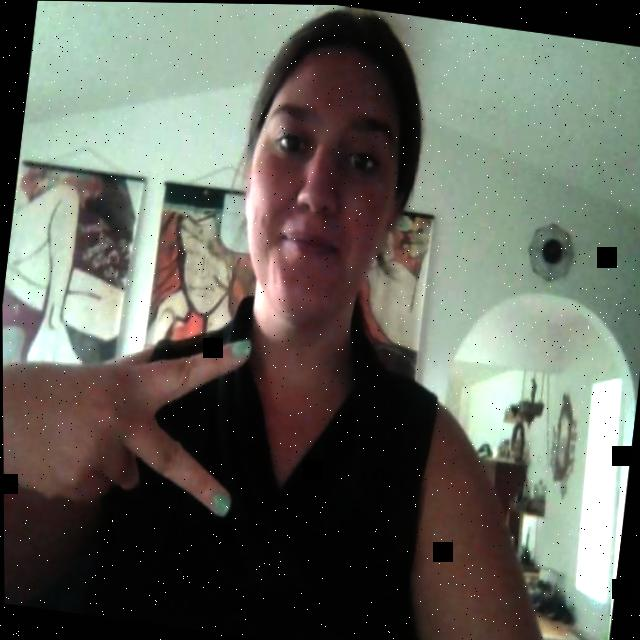Scissors: (2, 301, 270, 547)
